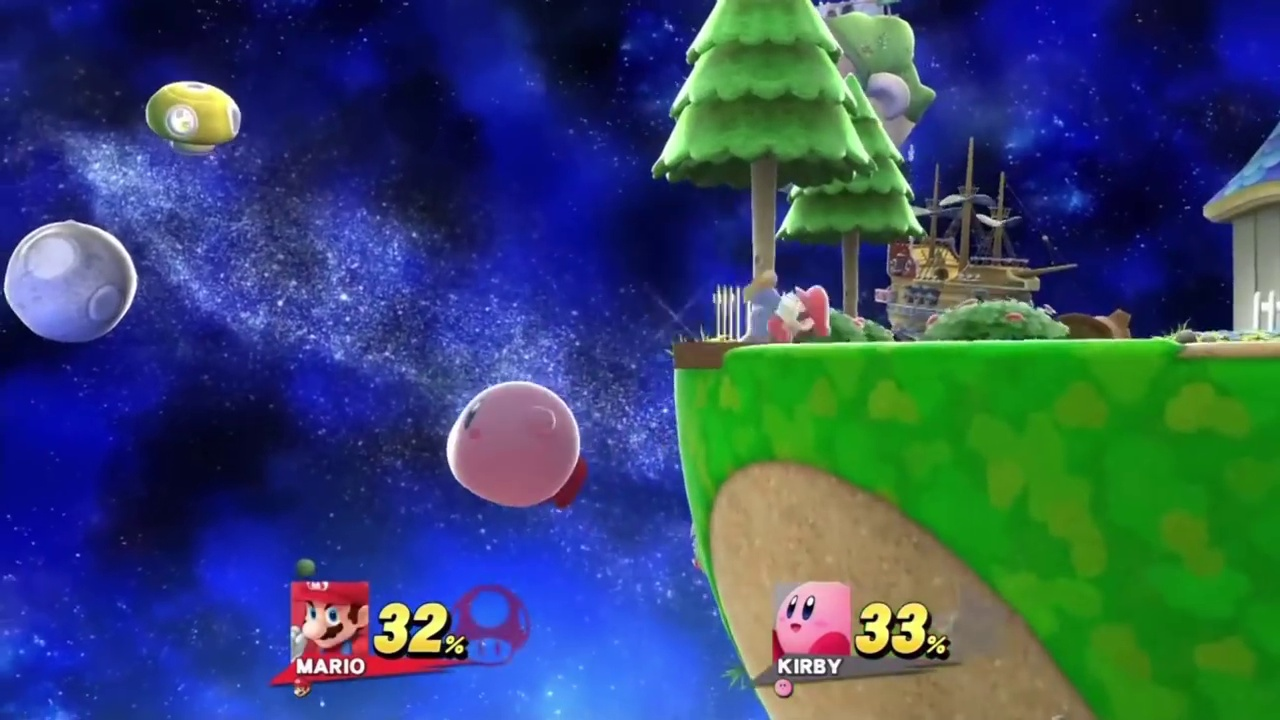Mario: (744, 270, 829, 341)
